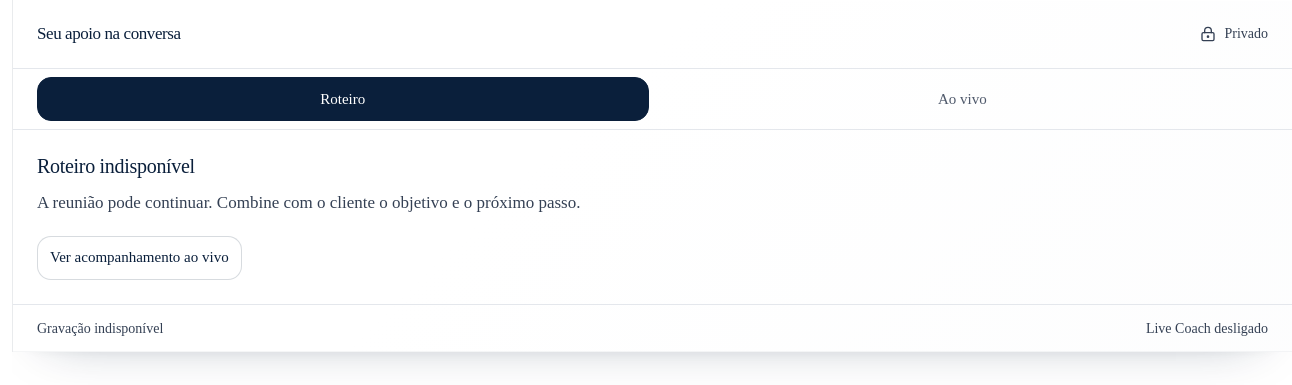
Test: consulta privada do roteiro › mantém indisponibilidade real da gravação e ausência de roteiro sem inventar progresso
The width and height of the screenshot is (1292, 385).
Expected: the heading "Roteiro indisponível" is shown, top-left (37, 155), bottom-right (195, 177)
Expected: the message reads "Gravação indisponível", top-left (37, 320), bottom-right (163, 336)
Step 1. Click the button "Ver acompanhamento ao vivo" → x=139, y=258, box top-left (37, 236), bottom-right (242, 280)
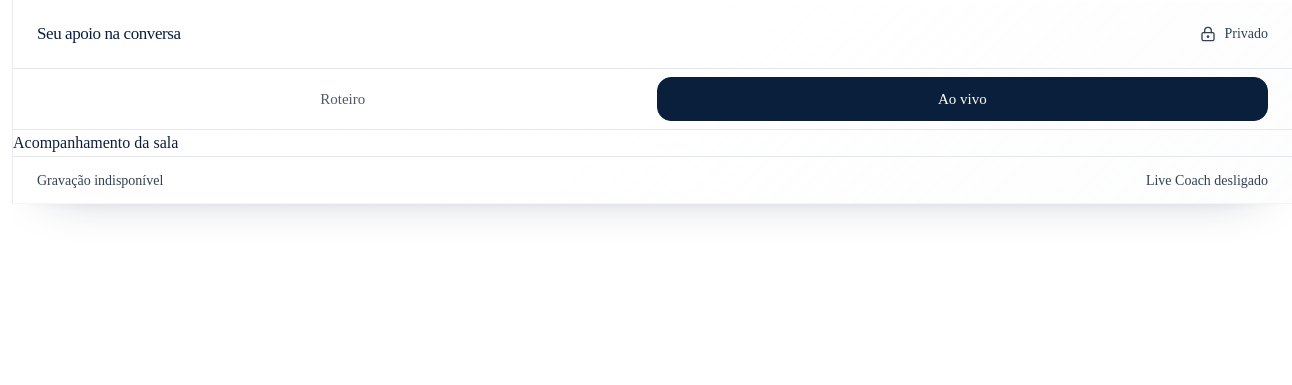
Now the text "Acompanhamento da sala" is shown, box top-left (13, 134), bottom-right (178, 151)
